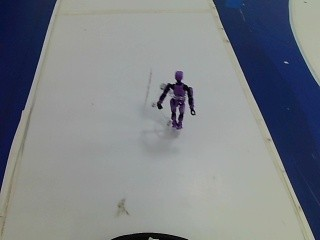pedestrian: (154, 69, 195, 133)
